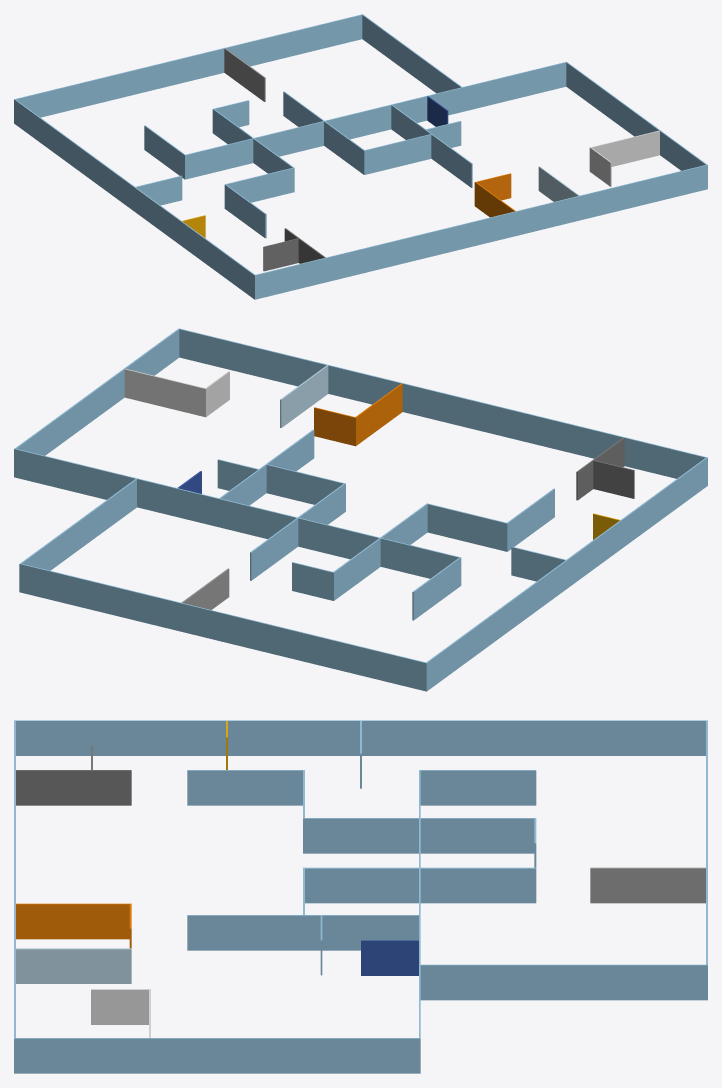
3 renders of one model, top to bottom at view 1: azimuth 30°, elevation 25°; view 2: azimuth 150°, elevation 25°; view 3: azimuth 270°, elevation 25°, orthographic. The views are drawn at different scales.
Parts seen in each view (by area): view 1: 60efa1712497b33441b63c7c (×9); view 2: 60efa1712497b33441b63c7c (×8); view 3: 60efa1712497b33441b63c7c (×8).
Part boxes in pixels (x1,y1,x2,y2): 60efa1712497b33441b63c7c (×9): (14, 14, 707, 299); 60efa1712497b33441b63c7c (×8): (14, 328, 707, 691); 60efa1712497b33441b63c7c (×8): (14, 720, 707, 1073).
Size of the model in its own units: 39.1 by 36 by 2.
